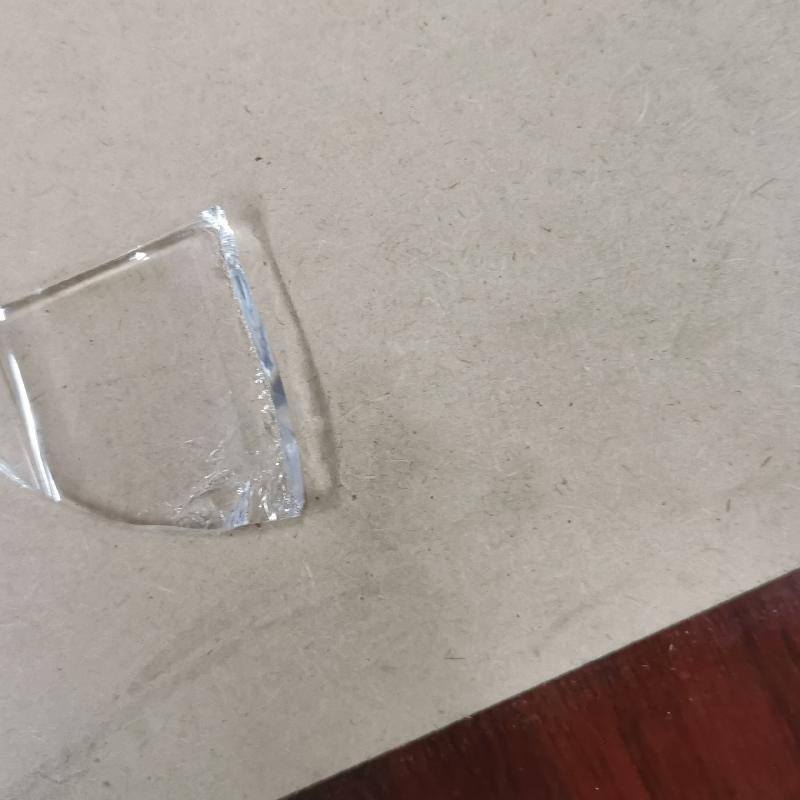glass: (8, 206, 312, 530)
